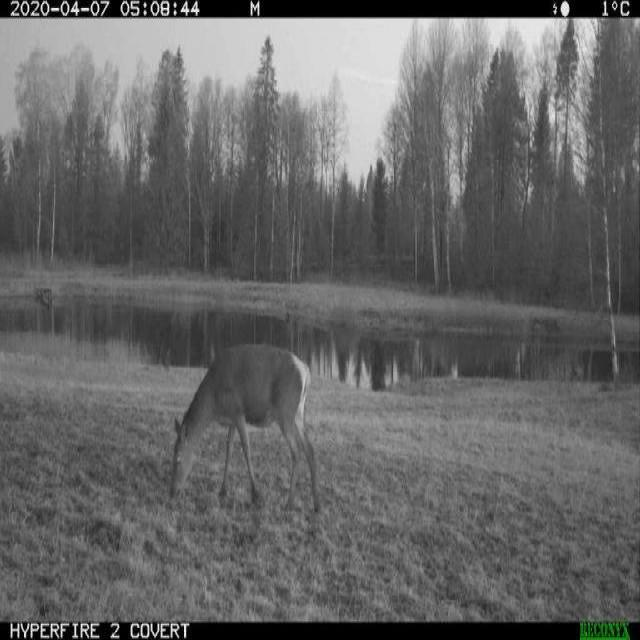deer: (162, 334, 330, 526)
